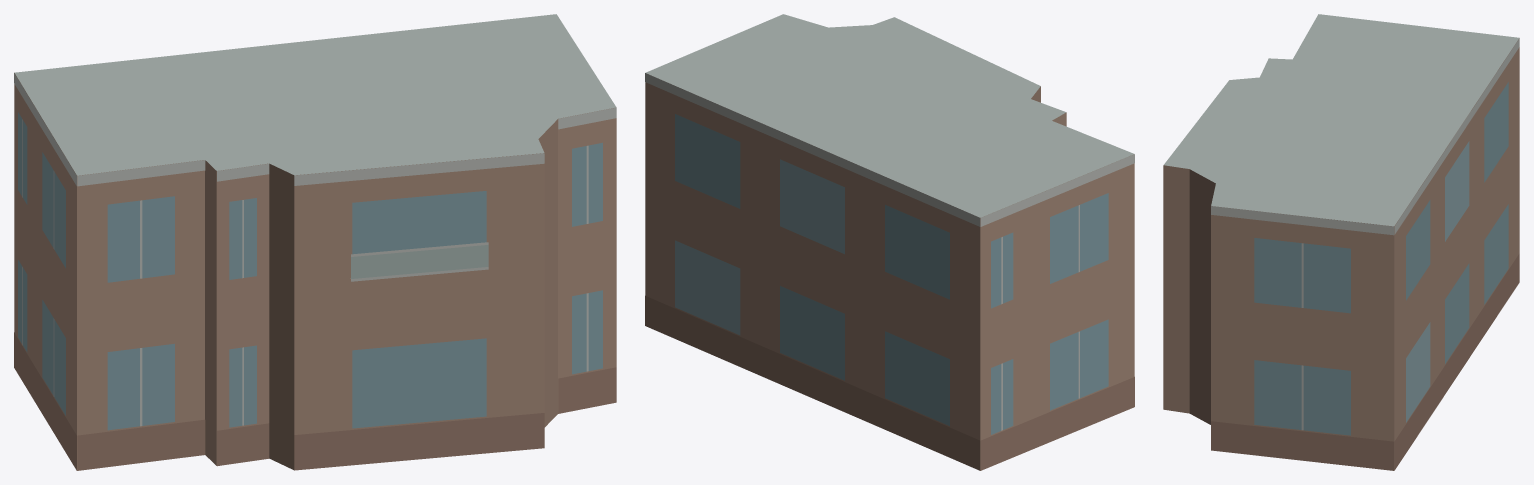
The model's file is survey-upis-32516472.glb.
3 views of the same model, side by side, from view 1: azimuth 30°, elevation 25°; view 2: azimuth 150°, elevation 25°; view 3: azimuth 270°, elevation 25° (orthographic). The views are drawn at different scales.
Parts seen in each view (by area): view 1: survey-upis-32516472.tmp; view 2: survey-upis-32516472.tmp; view 3: survey-upis-32516472.tmp.
Boxes of the visible parts, bbox=[...] form: survey-upis-32516472.tmp: bbox=[14, 14, 616, 470]; survey-upis-32516472.tmp: bbox=[645, 14, 1134, 470]; survey-upis-32516472.tmp: bbox=[1163, 14, 1519, 470].
Size of the model in its own units: 12.49 by 6.7 by 8.86.
